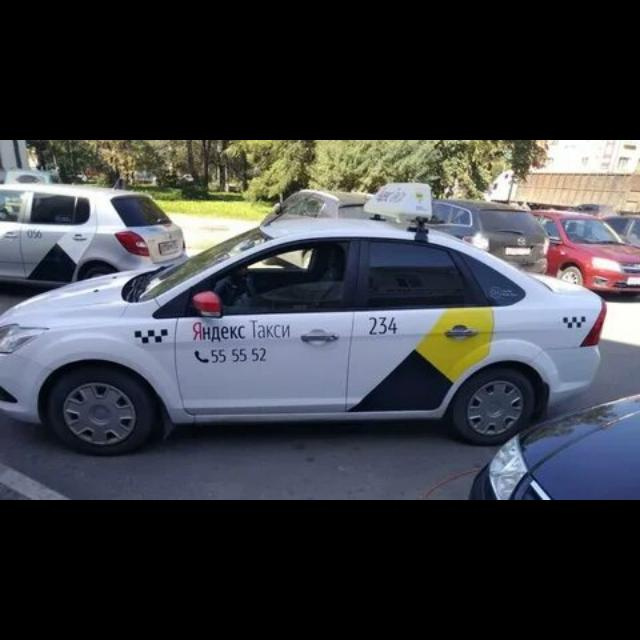taxi: (1, 184, 607, 456), (1, 183, 187, 288)
